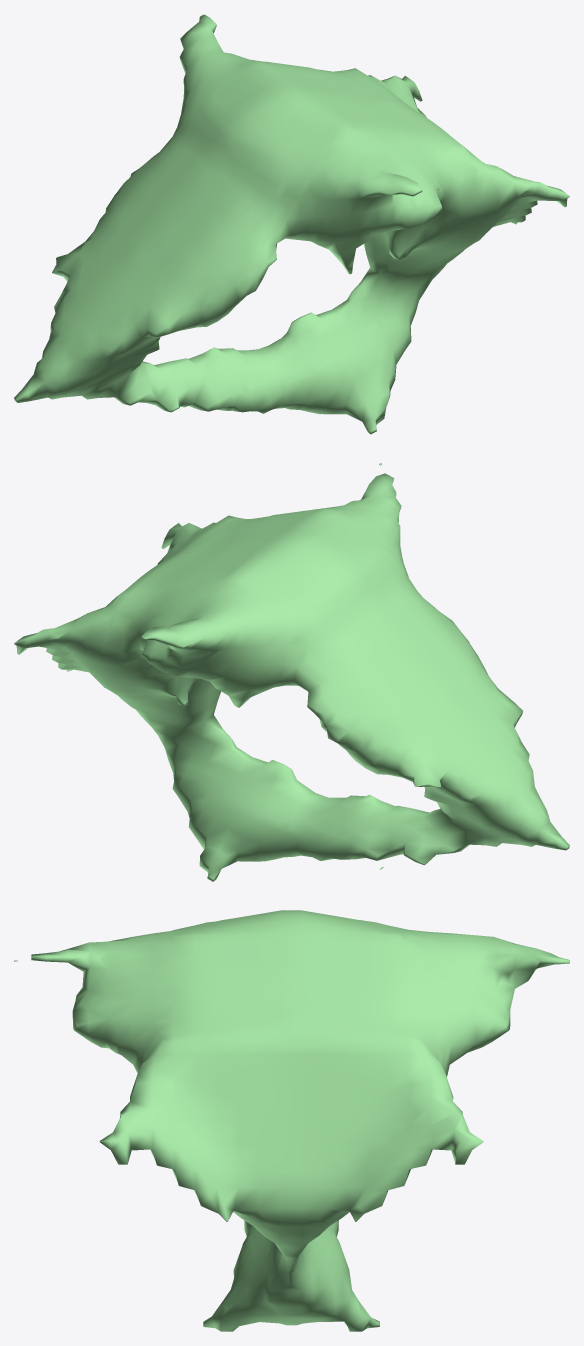
File: creature_2.glb
3 views of the same model, one above another, from view 1: azimuth 30°, elevation 25°; view 2: azimuth 150°, elevation 25°; view 3: azimuth 270°, elevation 25° (orthographic). The views are drawn at different scales.
Parts seen in each view (by area): view 1: swordfish.002; view 2: swordfish.002; view 3: swordfish.002.
Part boxes in pixels (x1,y1,x2,y2): swordfish.002: [14, 14, 569, 434]; swordfish.002: [14, 463, 569, 881]; swordfish.002: [14, 910, 569, 1331].
Size of the model in its own units: 5.84 by 3.84 by 5.04.
